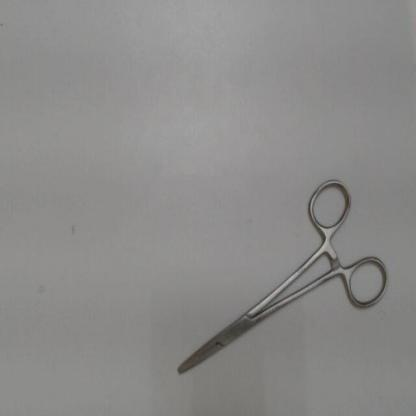Mayo Needle Holder: (169, 166, 396, 387)
